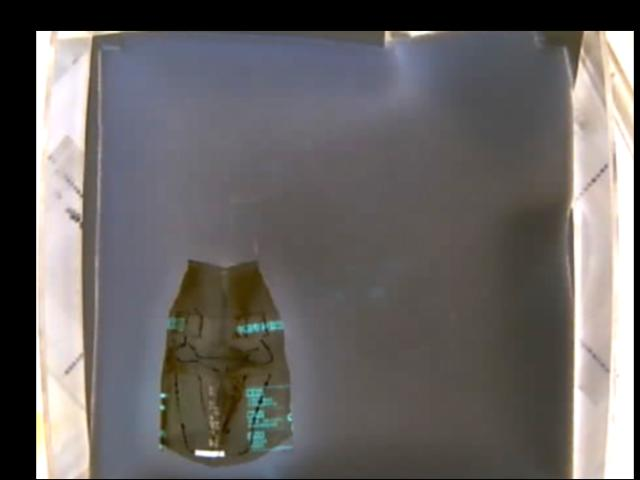Bottle: (155, 257, 293, 468)
